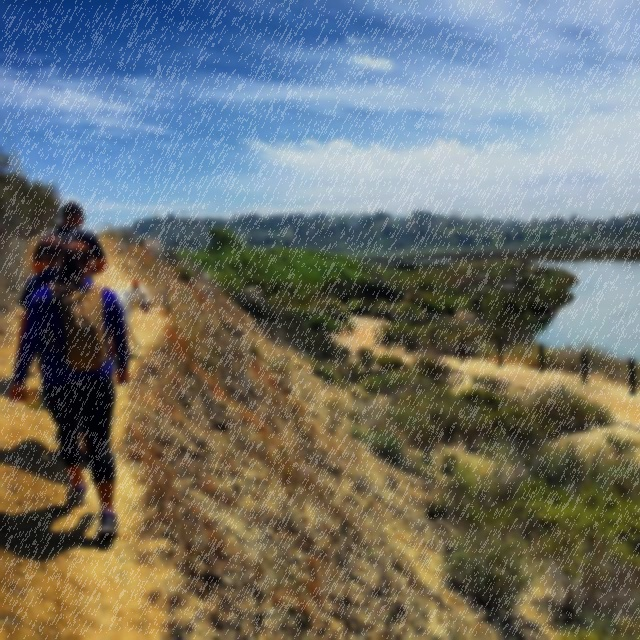pessoa: (7, 238, 134, 540), (12, 233, 67, 377), (32, 201, 107, 276), (383, 305, 438, 328), (518, 260, 523, 268)
